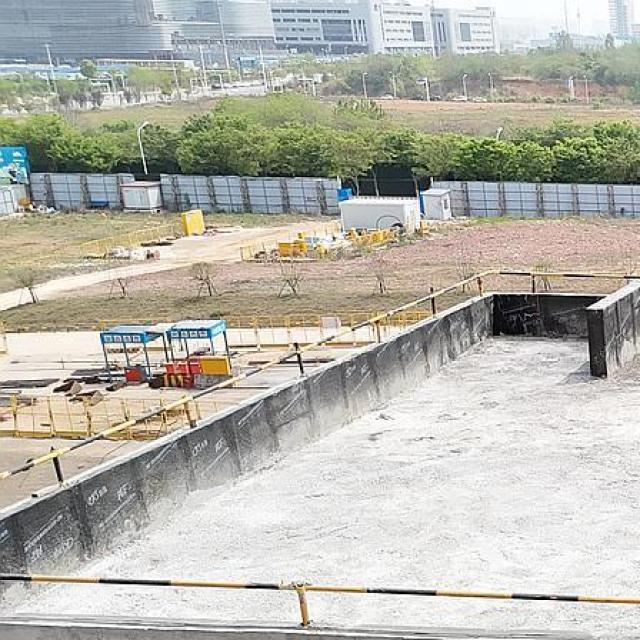edge_guardrail: (0, 268, 640, 485), (0, 573, 640, 627)
